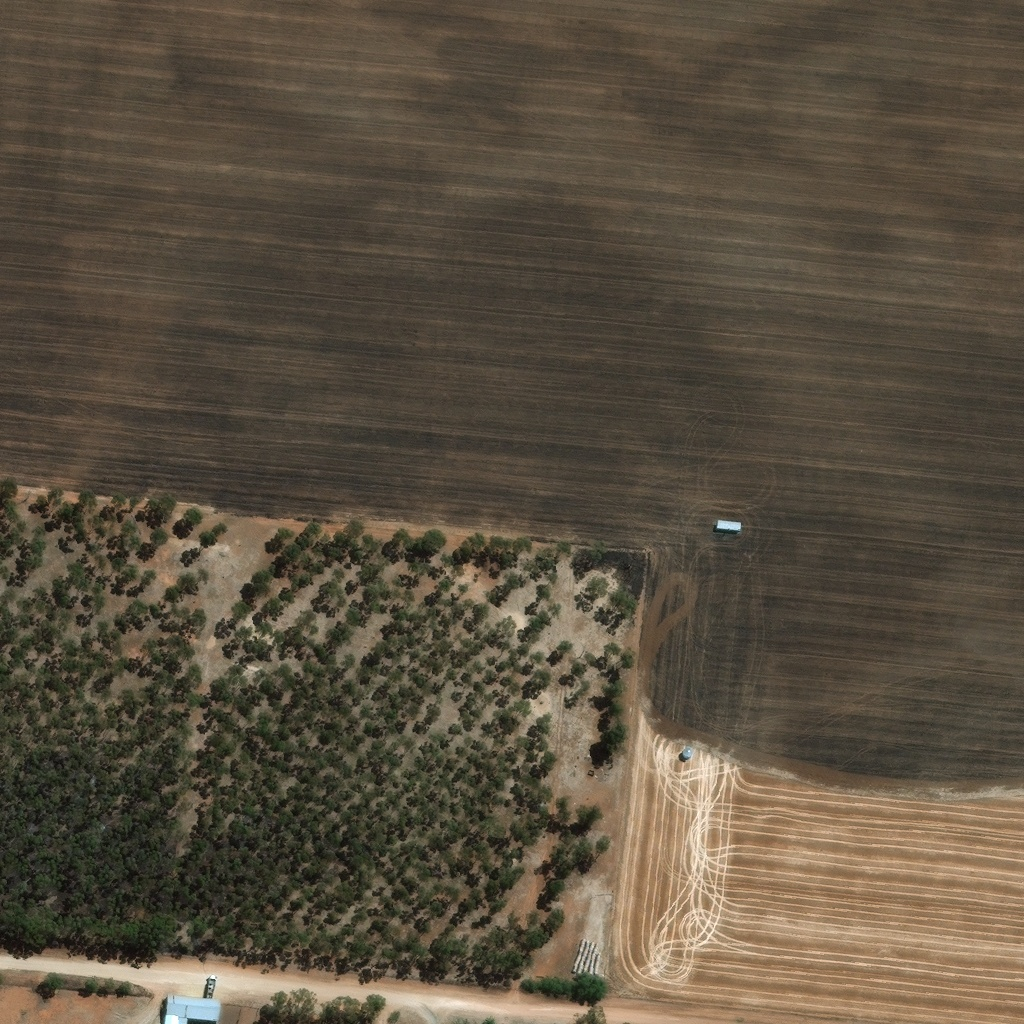0 no-damage: (165, 992, 219, 1023)
